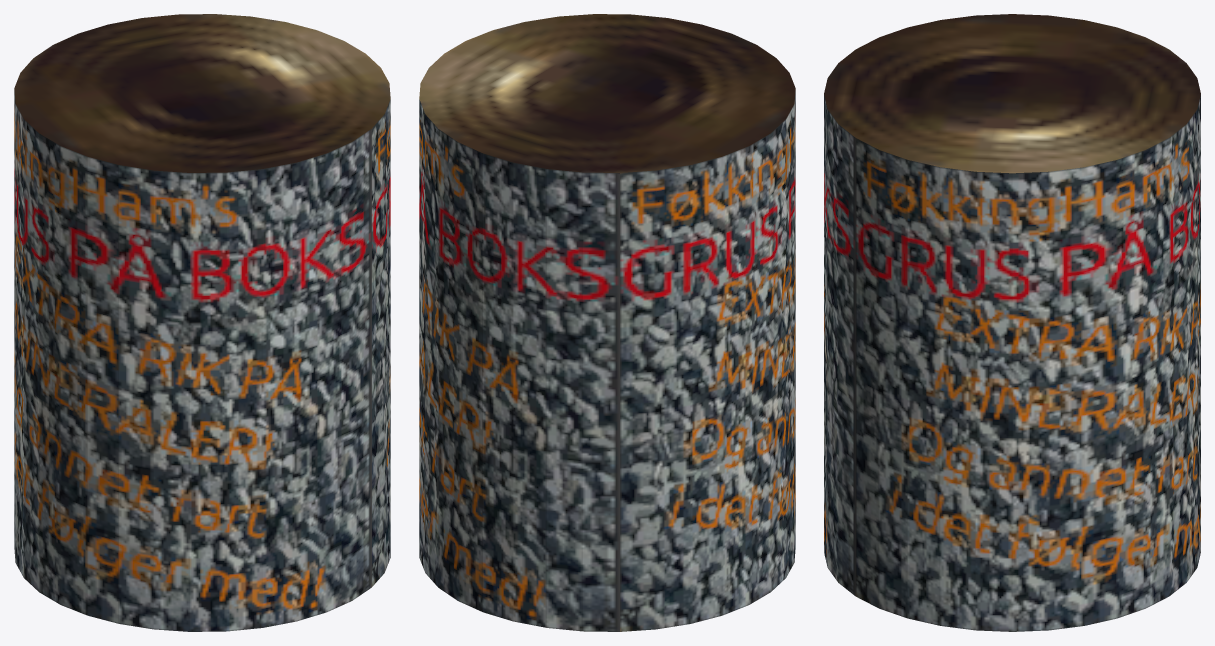
Rendered from GrusPåBoks.glb.
The picture shows the model from 3 angles, left to right: view 1: azimuth 30°, elevation 25°; view 2: azimuth 150°, elevation 25°; view 3: azimuth 270°, elevation 25°; orthographic projection.
Parts seen in each view (by area): view 1: GrusPåBoks; view 2: GrusPåBoks; view 3: GrusPåBoks.
Boxes of the visible parts, x1,y1,x2,y2 form: GrusPåBoks: (14,14,390,631); GrusPåBoks: (419,14,795,631); GrusPåBoks: (824,14,1200,631).
Bounding box in the file's own units: 2 × 2.69 × 2.
Materials: 1 (1 with a texture image).
